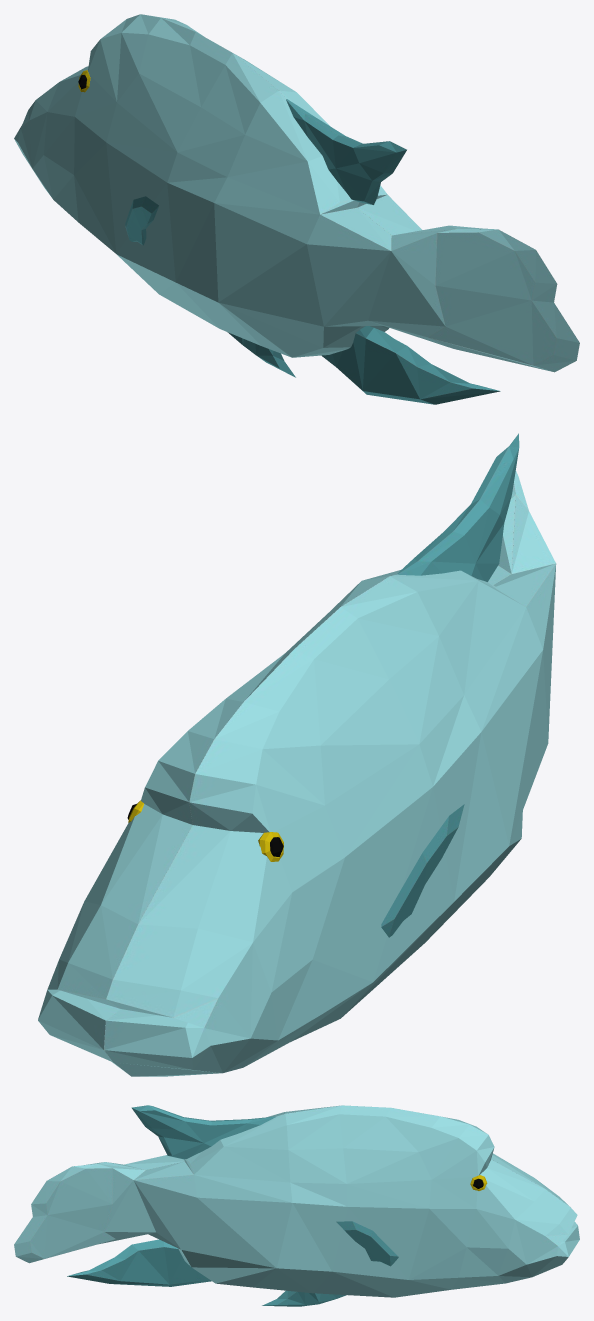
The model's file is MaoriWrasse.gltf.
The picture shows the model from 3 angles, top to bottom: view 1: azimuth 30°, elevation 25°; view 2: azimuth 150°, elevation 25°; view 3: azimuth 270°, elevation 25°; orthographic projection. The views are drawn at different scales.
Visible parts, largest first — view 1: Null.1 (Copy).1; view 2: Null.1 (Copy).1; view 3: Null.1 (Copy).1.
Part boxes in pixels (<box>): Null.1 (Copy).1: <box>14,14,579,404</box>; Null.1 (Copy).1: <box>38,433,556,1076</box>; Null.1 (Copy).1: <box>14,1105,579,1306</box>.
Size of the model in its own units: 84.99 by 123 by 306.
Materials: 1 (1 with a texture image).
